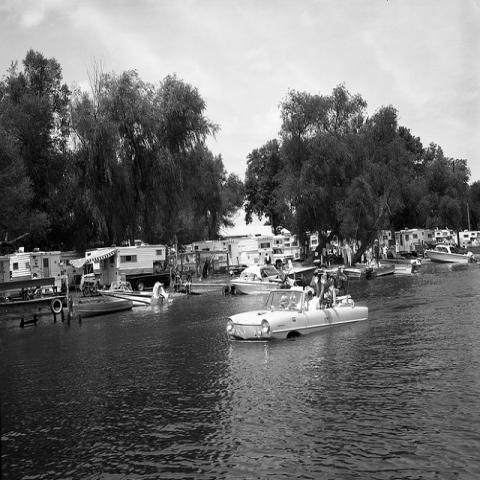car: (225, 290, 369, 342), (239, 264, 279, 282), (274, 248, 295, 269)
truck: (126, 262, 175, 291)
